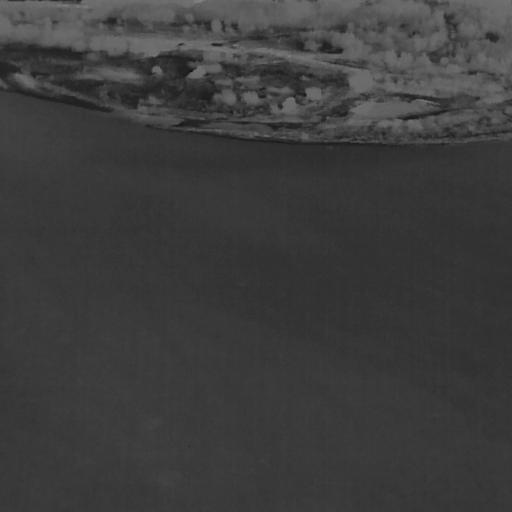uav: (314, 273, 322, 282)
